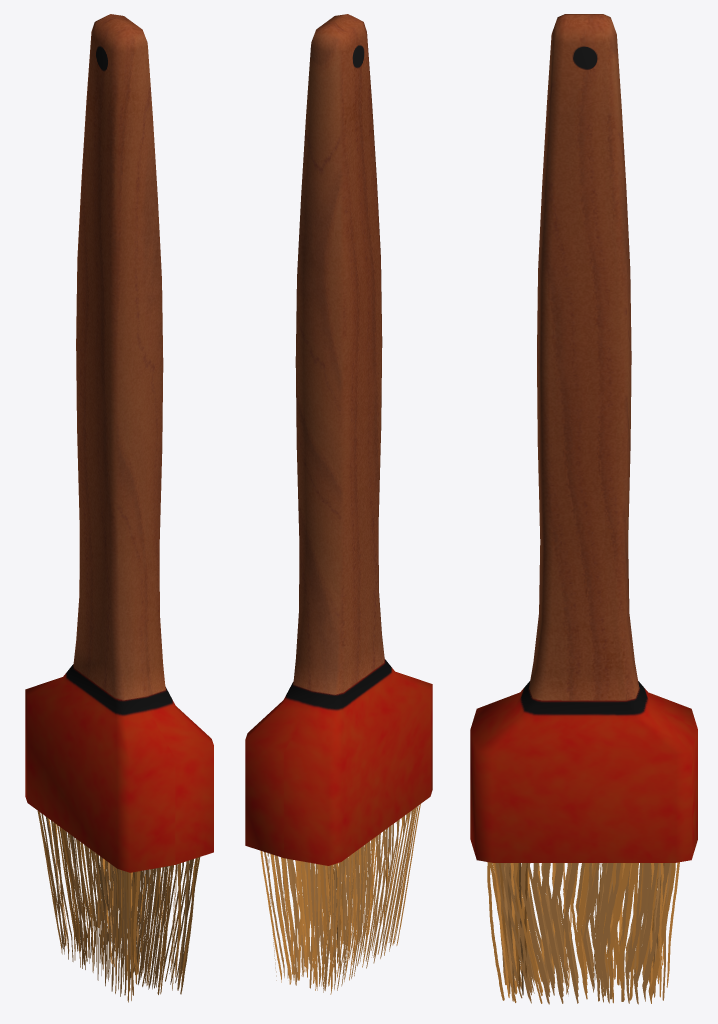
File: Kuas_F01.fbx
The picture shows the model from 3 angles, left to right: view 1: azimuth 30°, elevation 25°; view 2: azimuth 150°, elevation 25°; view 3: azimuth 270°, elevation 25°; orthographic projection. The views are drawn at different scales.
Parts seen in each view (by area): view 1: Kuas_F01; view 2: Kuas_F01; view 3: Kuas_F01.
Boxes of the visible parts, x1=… form: Kuas_F01: x1=25, y1=14, x2=213, y2=1002; Kuas_F01: x1=245, y1=14, x2=432, y2=994; Kuas_F01: x1=470, y1=14, x2=697, y2=1004.
Size of the model in its own units: 18.36 by 171 by 38.26.
